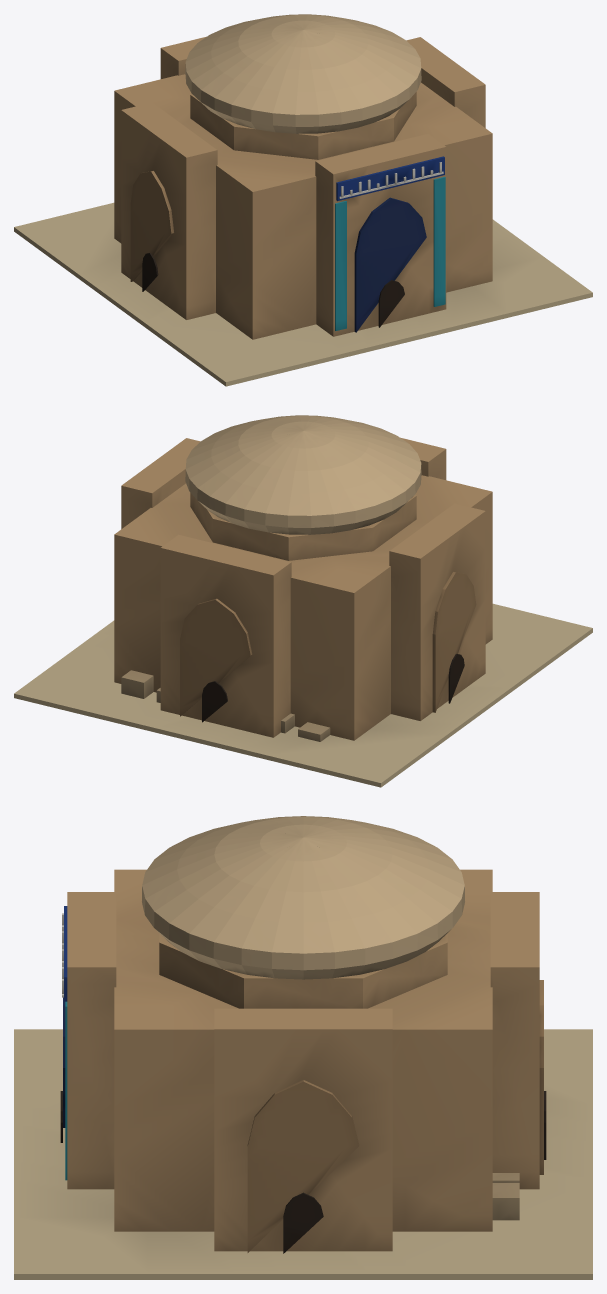
Rendered from ak-saray.glb.
3 renders of one model, top to bottom at view 1: azimuth 30°, elevation 25°; view 2: azimuth 150°, elevation 25°; view 3: azimuth 270°, elevation 25°, orthographic. The views are drawn at different scales.
Parts seen in each view (by area): view 1: p0_body; view 2: p0_body; view 3: p0_body.
Boxes of the visible parts, x1,y1,x2,y2 form: p0_body: (14, 14, 592, 386); p0_body: (14, 415, 592, 787); p0_body: (14, 816, 592, 1279).
Size of the model in its own units: 26 by 15.86 by 26.
